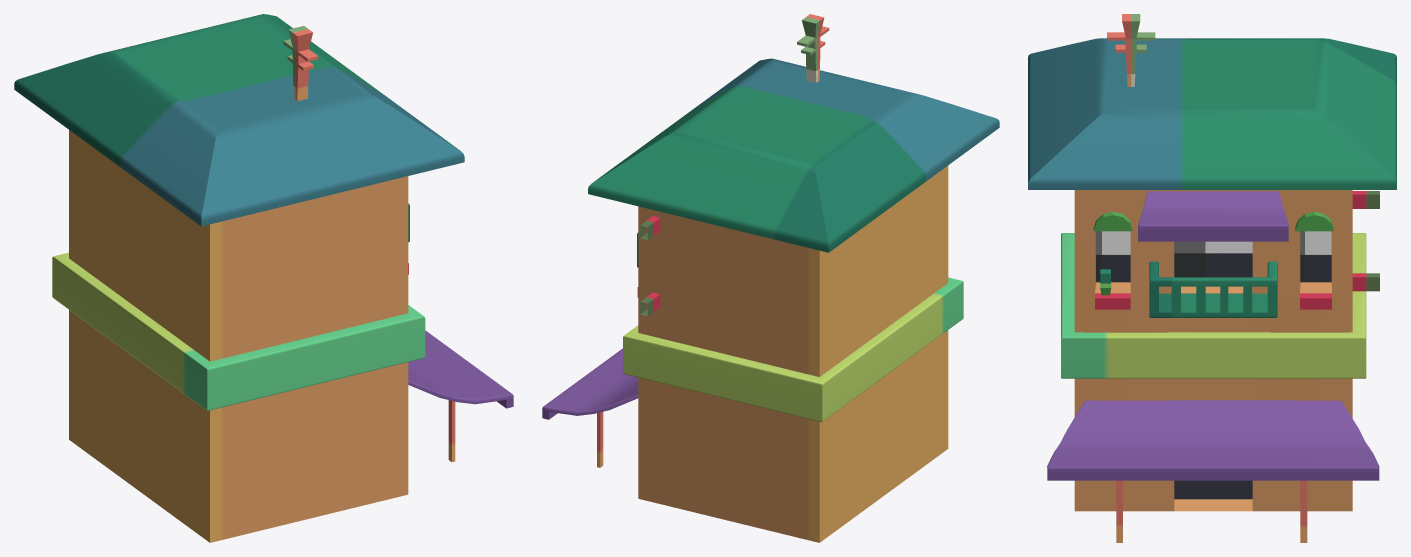
File: BuildingShort_04C.fbx
3 views of the same model, side by side, from view 1: azimuth 30°, elevation 25°; view 2: azimuth 150°, elevation 25°; view 3: azimuth 270°, elevation 25° (orthographic). The views are drawn at different scales.
Parts seen in each view (by area): view 1: polySurface1072; view 2: polySurface1072; view 3: polySurface1072.
Part boxes in pixels (x1,y1,x2,y2): polySurface1072: (14,14,513,542); polySurface1072: (542,14,999,542); polySurface1072: (1028,14,1396,542).
Size of the model in its own units: 4.91 by 6.72 by 4.93.
